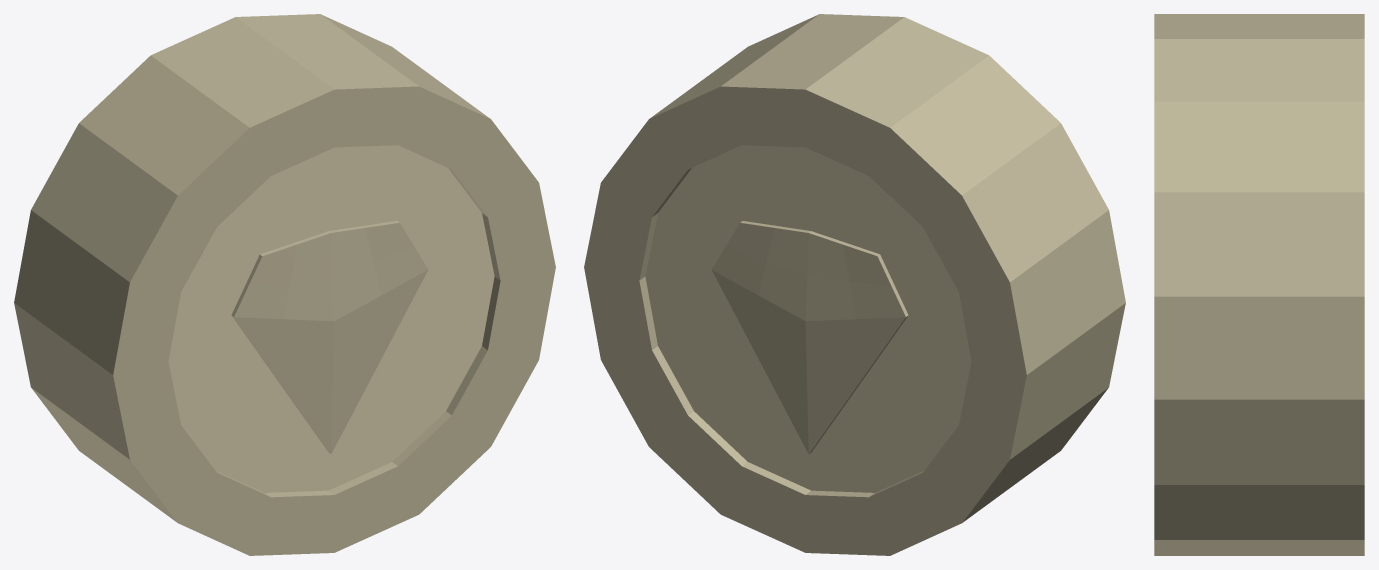
File: SilverCoin.fbx
3 renders of one model, left to right at view 1: azimuth 30°, elevation 25°; view 2: azimuth 150°, elevation 25°; view 3: azimuth 270°, elevation 25°, orthographic. The views are drawn at different scales.
Visible parts, largest first — view 1: Coin.Silver; view 2: Coin.Silver; view 3: Coin.Silver.
Boxes of the visible parts, <box> form: Coin.Silver: <box>14,14,555,555</box>; Coin.Silver: <box>584,14,1125,555</box>; Coin.Silver: <box>1154,14,1364,555</box>.
Bounding box in the file's own units: 10.59 × 10.59 × 4.1.
